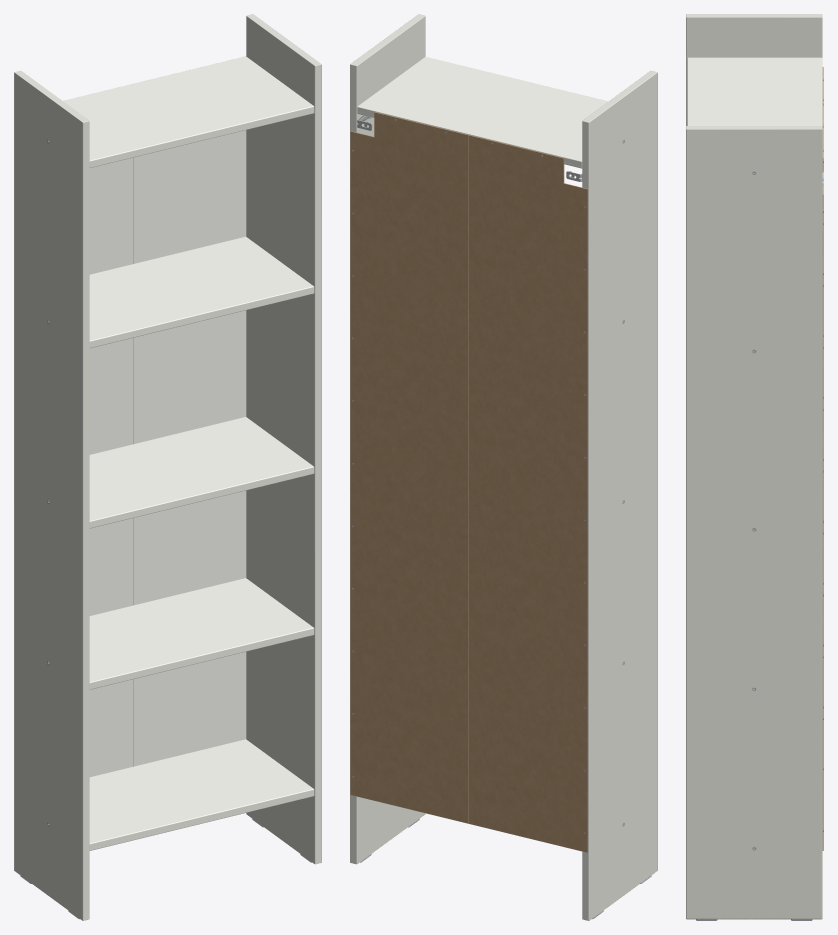
The model's file is BAGGEBO bookcase.glb.
3 renders of one model, left to right at view 1: azimuth 30°, elevation 25°; view 2: azimuth 150°, elevation 25°; view 3: azimuth 270°, elevation 25°, orthographic.
Bounding box in the file's own units: 0.501 × 1.6 × 0.2525.
1 material, 1 textured.
